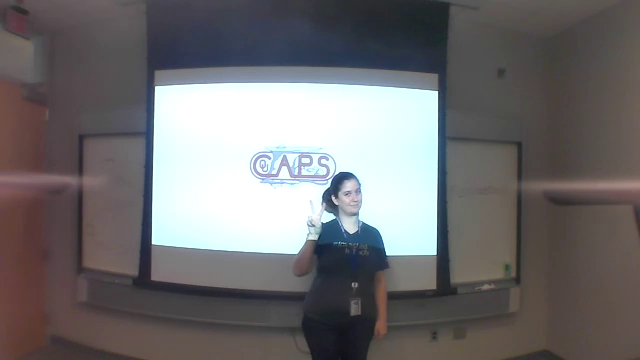peace: (299, 197, 331, 238)
